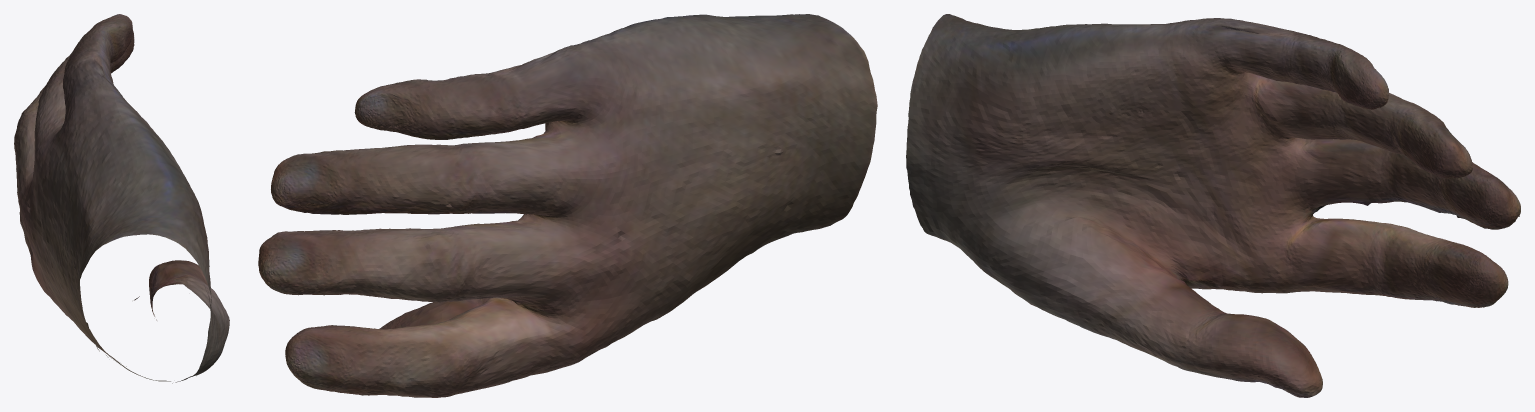
3 renders of one model, left to right at view 1: azimuth 30°, elevation 25°; view 2: azimuth 150°, elevation 25°; view 3: azimuth 270°, elevation 25°, orthographic. The views are drawn at different scales.
Parts seen in each view (by area): view 1: 0; view 2: 0; view 3: 0.
Part boxes in pixels (x1=…): 0: x1=14, y1=14, x2=229, y2=383; 0: x1=258, y1=14, x2=877, y2=397; 0: x1=906, y1=14, x2=1520, y2=397.
Bounding box in the file's own units: 0.1125 × 0.1065 × 0.1912.
